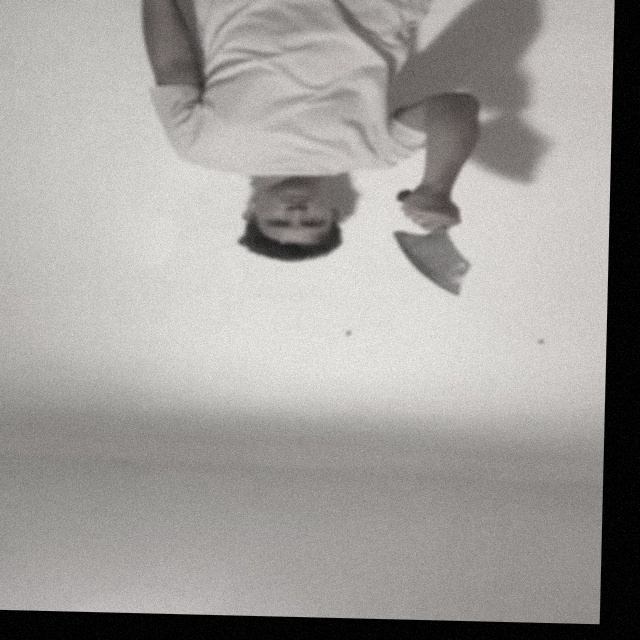Sharp-Object: (392, 231, 477, 301)
